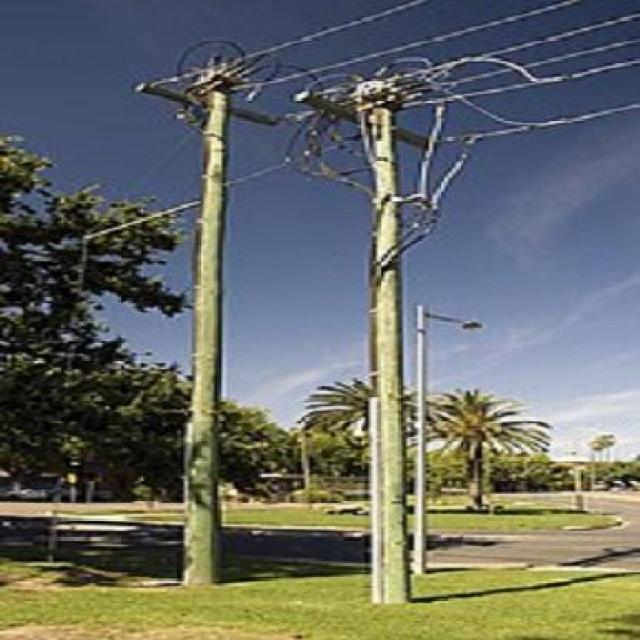pole: (137, 40, 286, 588), (292, 58, 426, 604)
